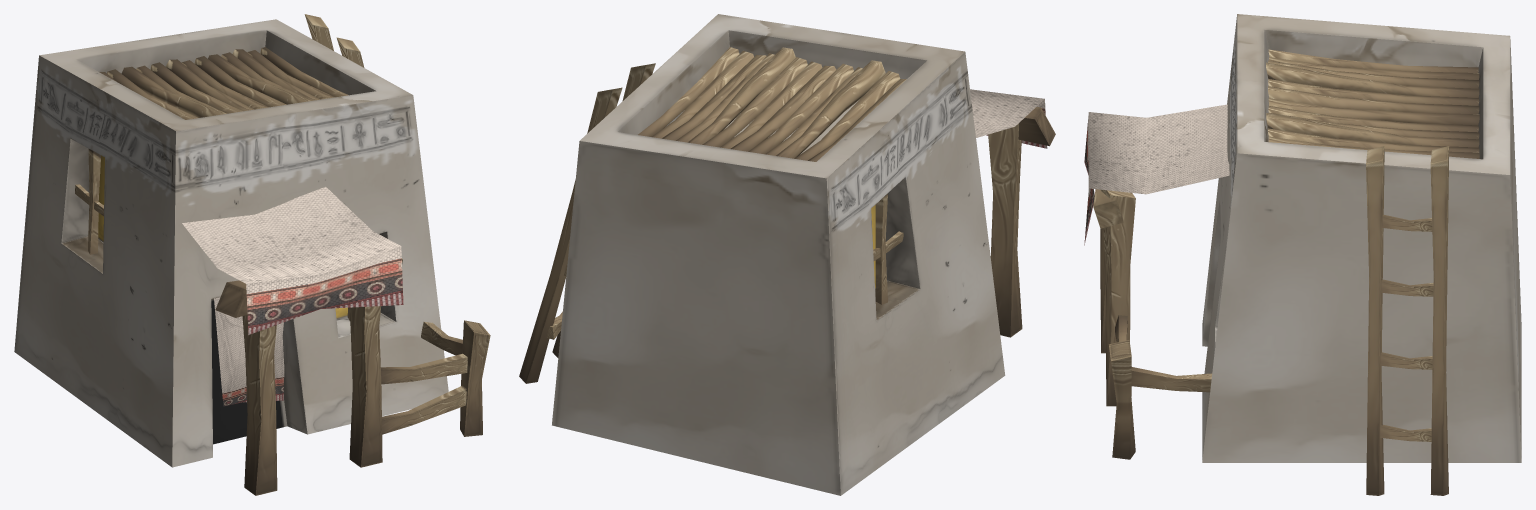
The model's file is Egypt_Village_Buildings_01.FBX.
The picture shows the model from 3 angles, left to right: view 1: azimuth 30°, elevation 25°; view 2: azimuth 150°, elevation 25°; view 3: azimuth 270°, elevation 25°; orthographic projection. The views are drawn at different scales.
Visible parts, largest first — view 1: Egypt_Village_Buildings_01; view 2: Egypt_Village_Buildings_01; view 3: Egypt_Village_Buildings_01.
Boxes of the visible parts, bbox=[...] form: Egypt_Village_Buildings_01: bbox=[14, 14, 490, 495]; Egypt_Village_Buildings_01: bbox=[519, 14, 1055, 495]; Egypt_Village_Buildings_01: bbox=[1084, 14, 1521, 495].
Bounding box in the file's own units: 487 × 430 × 525.
